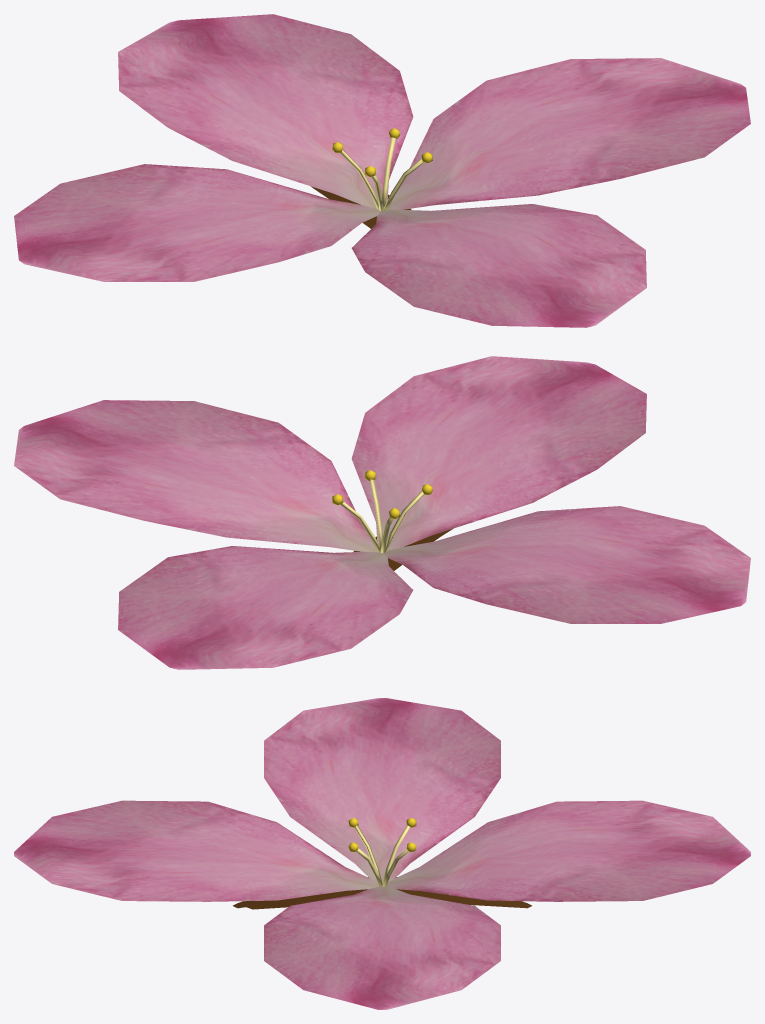
File: flower_2.glb
3 views of the same model, one above another, from view 1: azimuth 30°, elevation 25°; view 2: azimuth 150°, elevation 25°; view 3: azimuth 270°, elevation 25° (orthographic). The views are drawn at different scales.
Visible parts, largest first — view 1: Flower; view 2: Flower; view 3: Flower, Clip.
Boxes of the visible parts, x1,y1,x2,y2 form: Flower: [14, 14, 750, 327]; Flower: [14, 356, 750, 669]; Flower: [14, 698, 750, 1009]; Clip: [233, 877, 531, 909].
Bounding box in the file's own units: 4.58 × 0.5289 × 4.58.
1 material, 1 textured.
